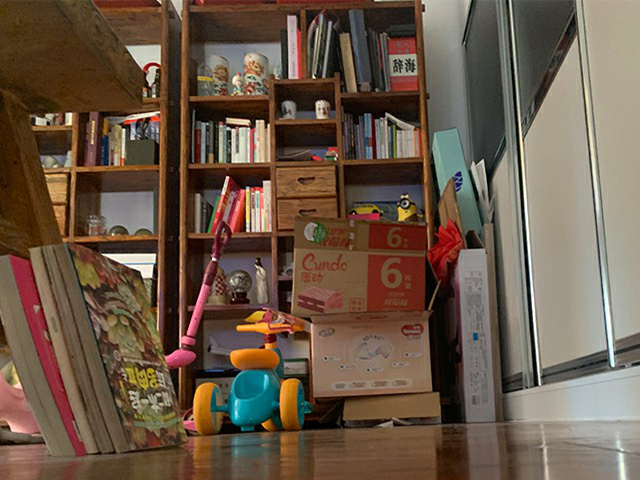book: (1, 241, 189, 456)
cabinet: (491, 32, 640, 422)
